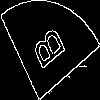B: (25, 24, 67, 77)
